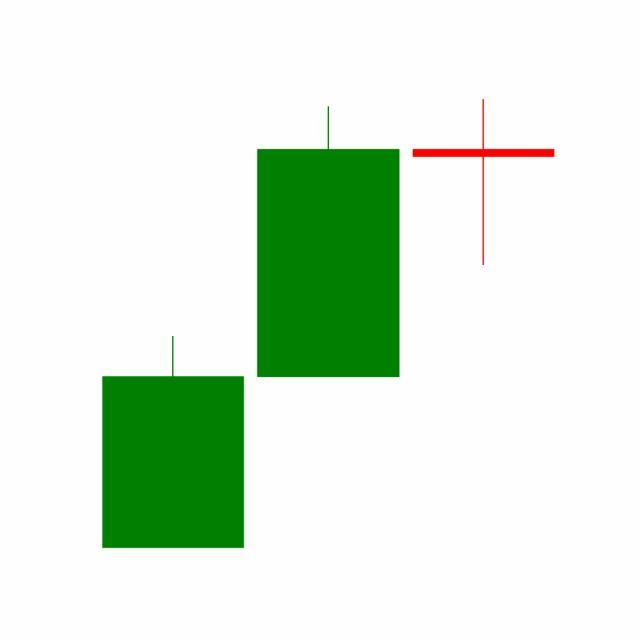Spinning Top: (406, 98, 562, 268)
